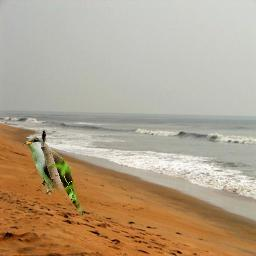Cuckoo: (21, 136, 87, 216)
